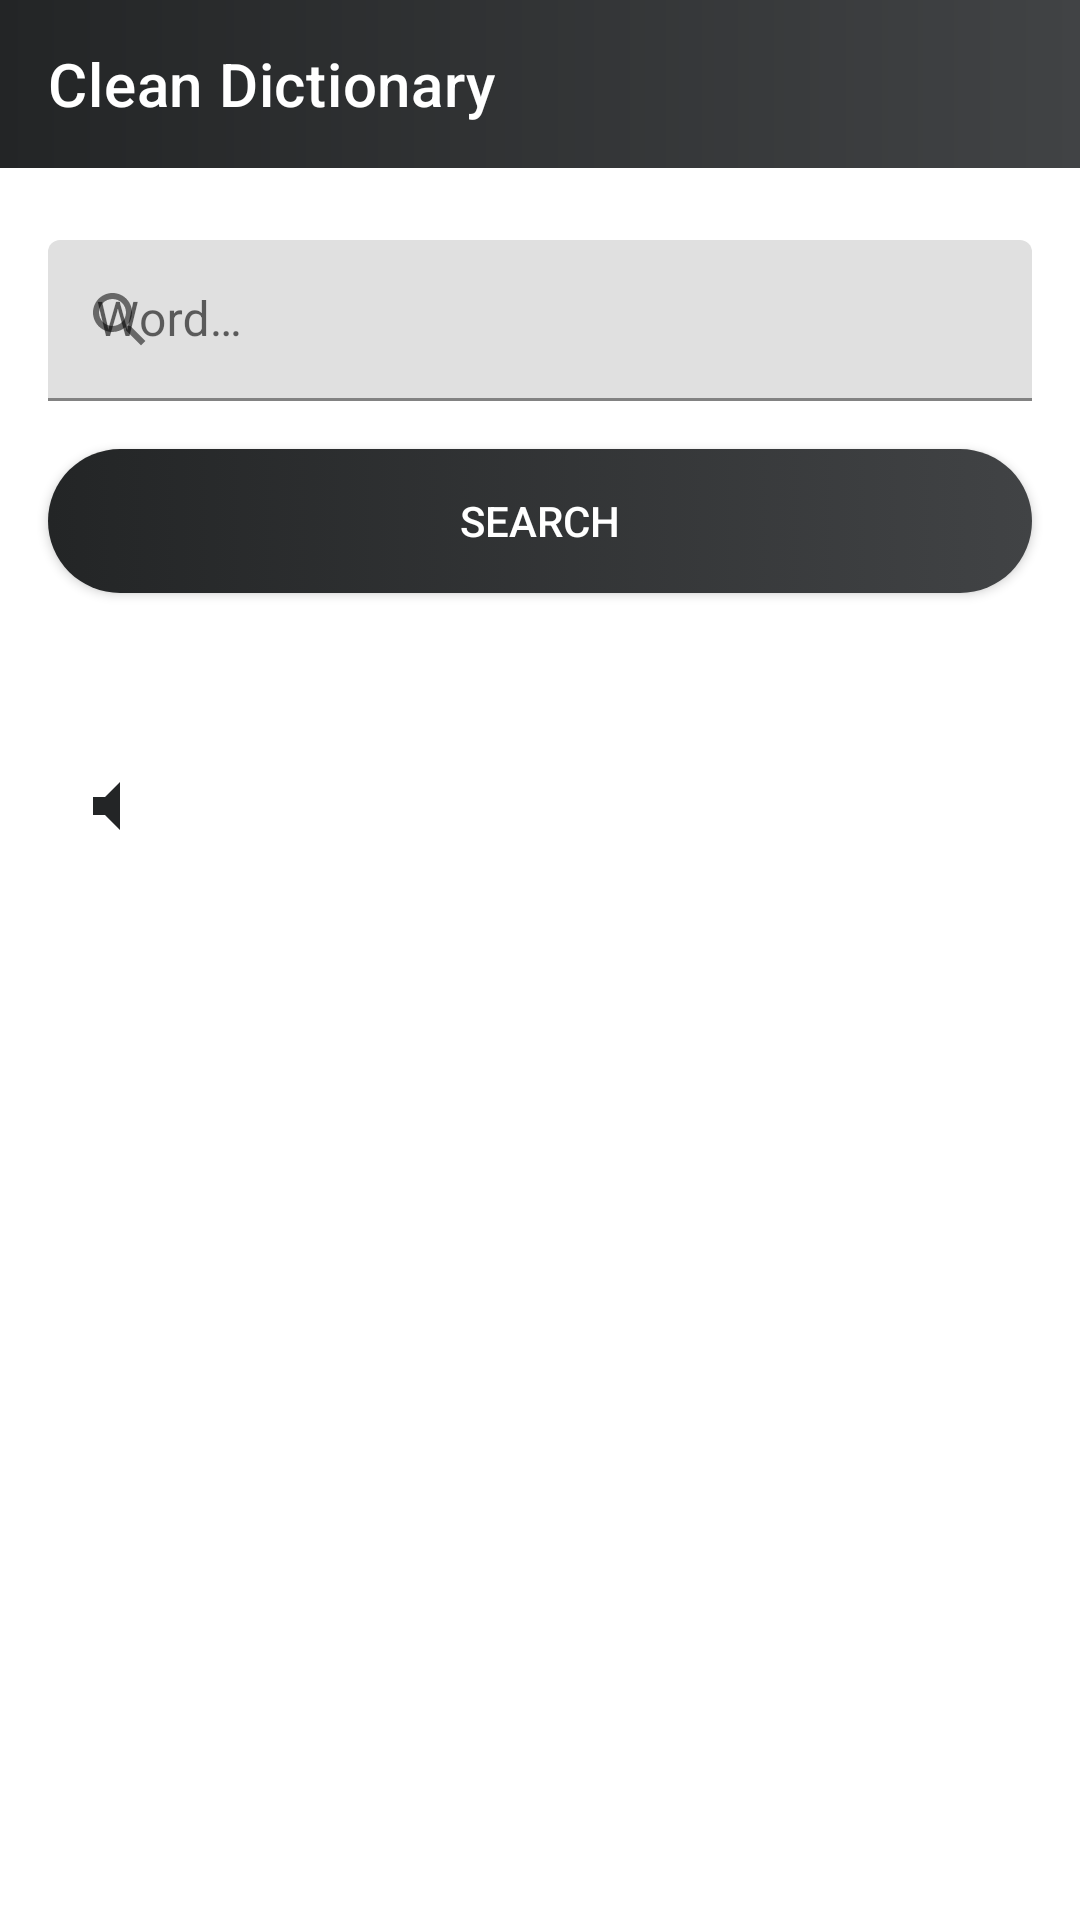

Where icons sit on this 1080×1920 app screen, as (x1, y1, x2, y2):
Play audio image: (93, 782, 120, 830)
